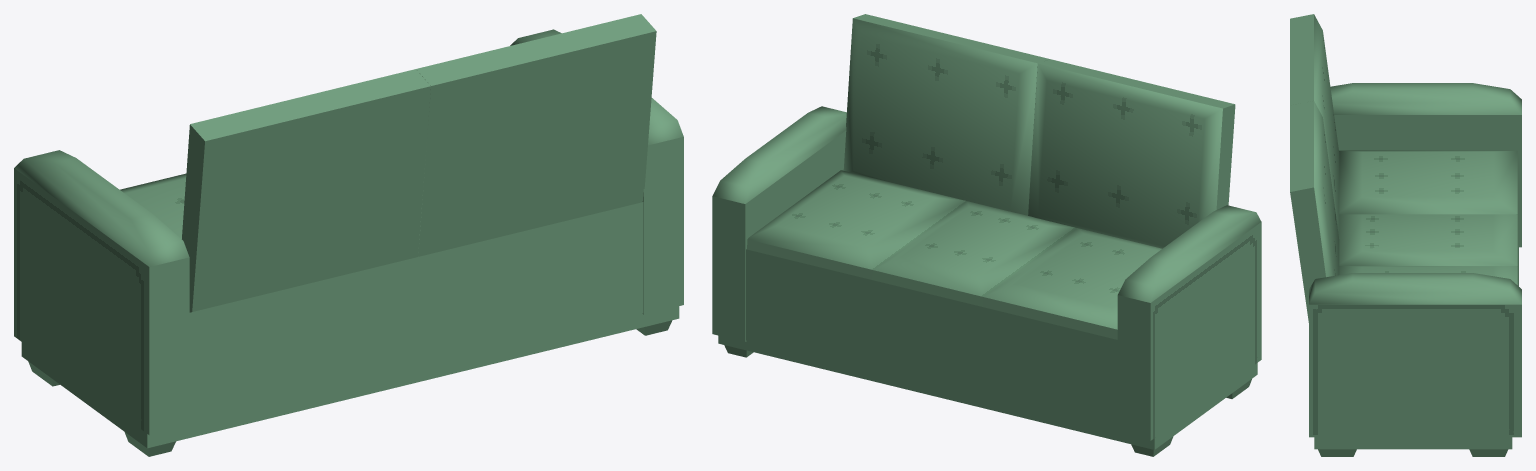
Rendered from sofa.glb.
3 views of the same model, side by side, from view 1: azimuth 30°, elevation 25°; view 2: azimuth 150°, elevation 25°; view 3: azimuth 270°, elevation 25° (orthographic). The views are drawn at different scales.
Parts seen in each view (by area): view 1: sofa; view 2: sofa; view 3: sofa.
Boxes of the visible parts, x1,y1,x2,y2 form: sofa: [14, 14, 683, 456]; sofa: [712, 14, 1261, 456]; sofa: [1290, 14, 1521, 456].
Bounding box in the file's own units: 5.53 × 3.24 × 2.64.
Materials: 1 (1 with a texture image).
